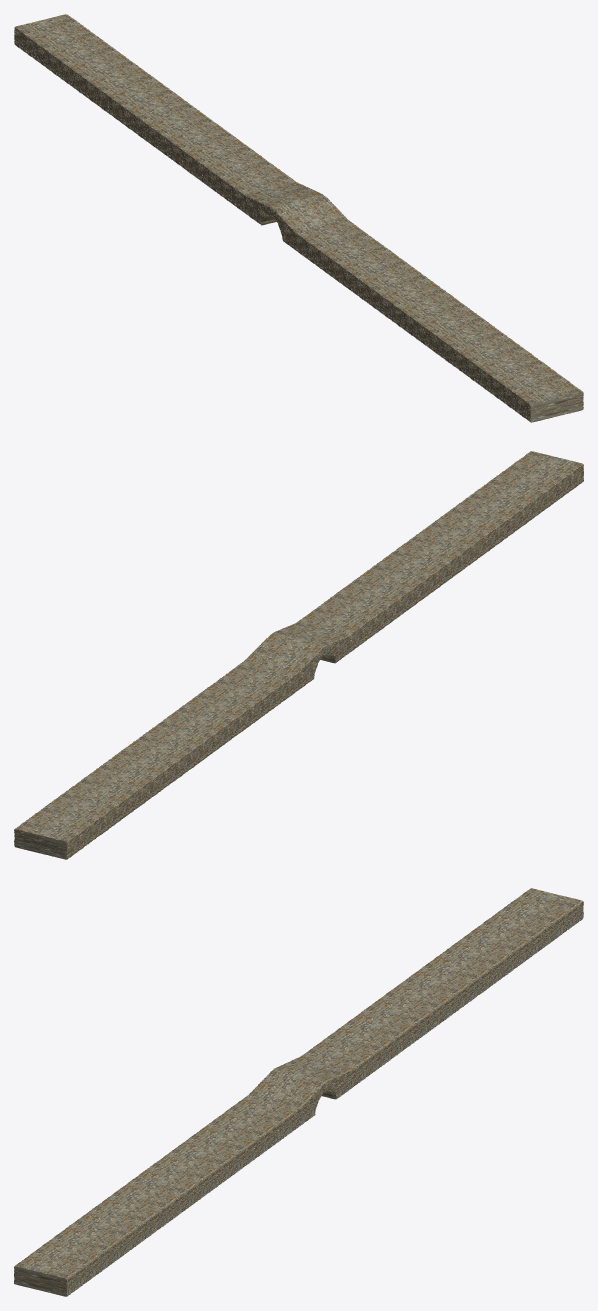
The model's file is Puente_6.glb.
The picture shows the model from 3 angles, top to bottom: view 1: azimuth 30°, elevation 25°; view 2: azimuth 150°, elevation 25°; view 3: azimuth 330°, elevation 25°; orthographic projection.
Parts seen in each view (by area): view 1: Puente.001; view 2: Puente.001; view 3: Puente.001.
Boxes of the visible parts, <box> form: Puente.001: <box>14,14,583,422</box>; Puente.001: <box>14,451,583,859</box>; Puente.001: <box>14,888,583,1296</box>.
Bounding box in the file's own units: 15.68 × 7.15 × 258.
1 material, 1 textured.
